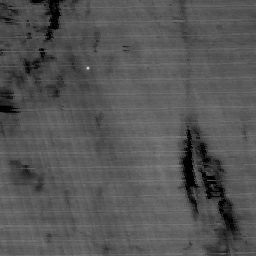Target: (84, 65, 91, 72)
